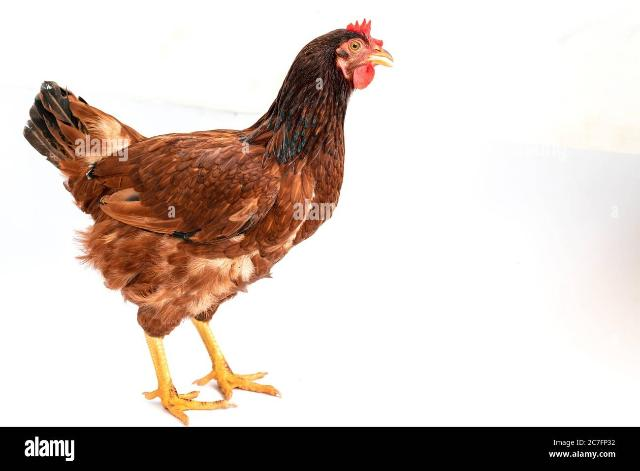Chicken: (25, 18, 394, 425)
